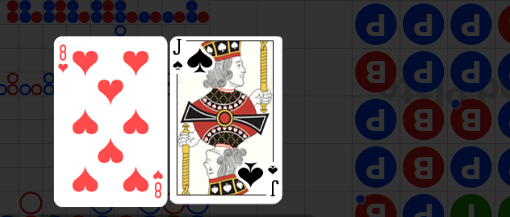8H: (56, 43, 70, 75)
JS: (171, 38, 215, 85), (238, 159, 282, 205)
